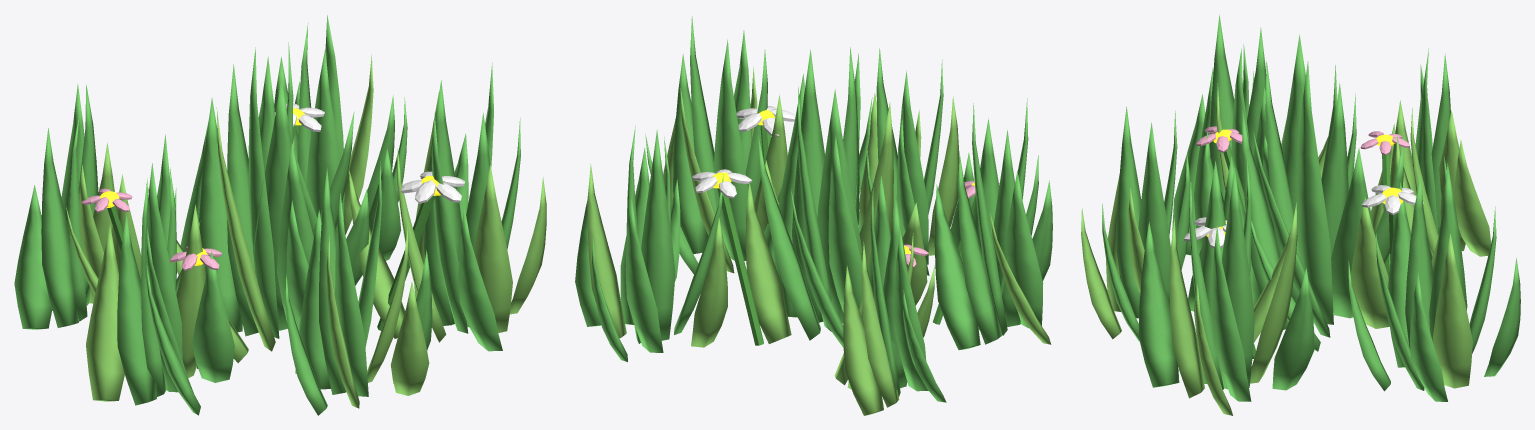
File: grass.glb
The picture shows the model from 3 angles, left to right: view 1: azimuth 30°, elevation 25°; view 2: azimuth 150°, elevation 25°; view 3: azimuth 270°, elevation 25°; orthographic projection. The views are drawn at different scales.
Visible parts, largest first — view 1: Grass_Bush_Patch; view 2: Grass_Bush_Patch; view 3: Grass_Bush_Patch.
Boxes of the visible parts, x1,y1,x2,y2 form: Grass_Bush_Patch: (14,15,546,415); Grass_Bush_Patch: (575,16,1052,415); Grass_Bush_Patch: (1081,14,1520,415).
Size of the model in its own units: 1.21 by 0.7889 by 1.13.
